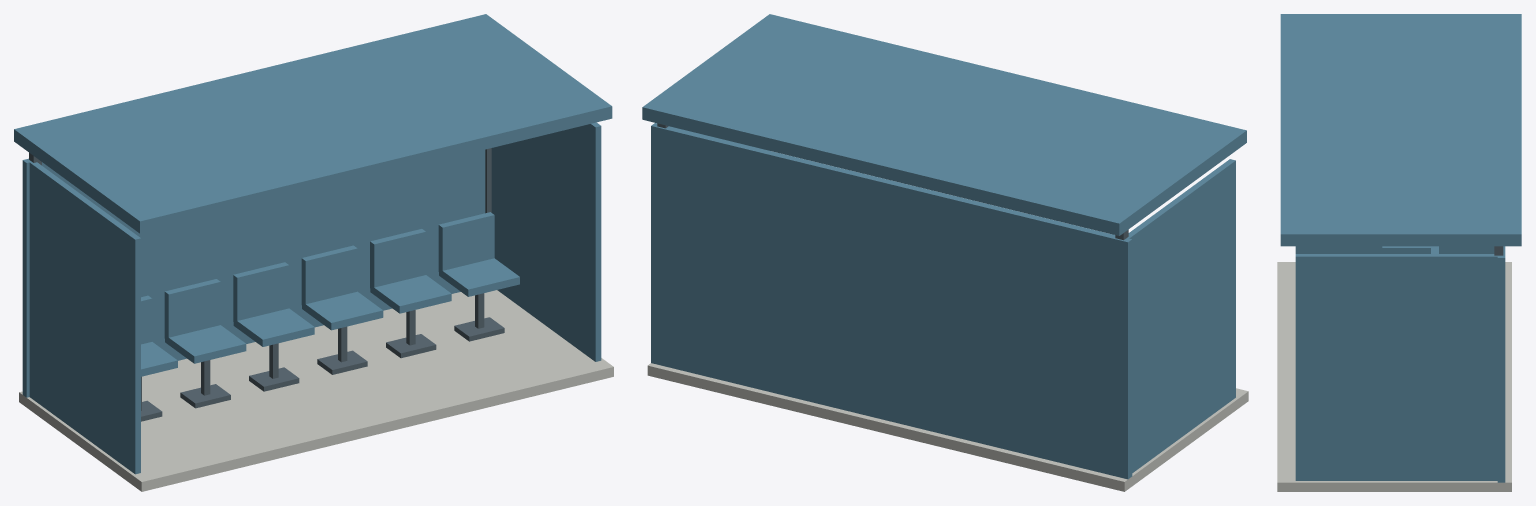
Rendered from dugout_shelter.glb.
3 renders of one model, left to right at view 1: azimuth 30°, elevation 25°; view 2: azimuth 150°, elevation 25°; view 3: azimuth 270°, elevation 25°, orthographic. The views are drawn at different scales.
Visible parts, largest first — view 1: dugout-shelter; view 2: dugout-shelter; view 3: dugout-shelter.
Part boxes in pixels (x1,y1,x2,y2): dugout-shelter: (14,14,613,491); dugout-shelter: (642,14,1248,491); dugout-shelter: (1277,14,1521,491).
Size of the model in its own units: 4 by 2.18 by 1.87.
